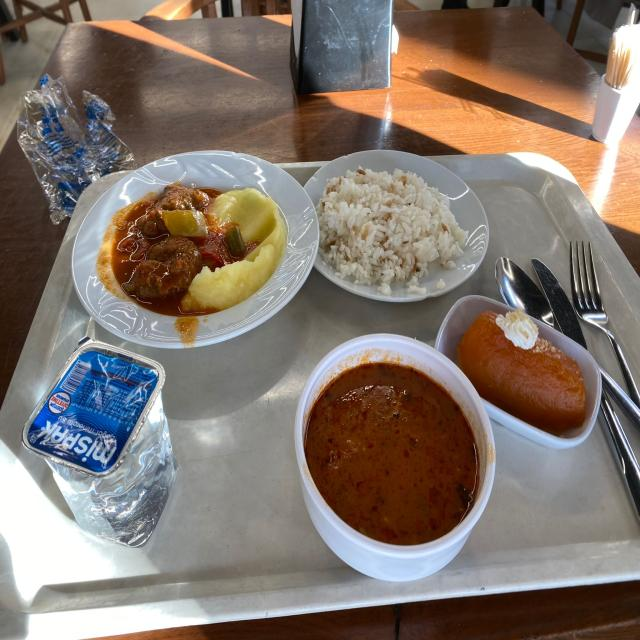ana_yemek: (60, 148, 296, 357), (316, 163, 466, 294)
corba: (298, 345, 472, 585)
yan_yemek: (432, 297, 604, 444)
